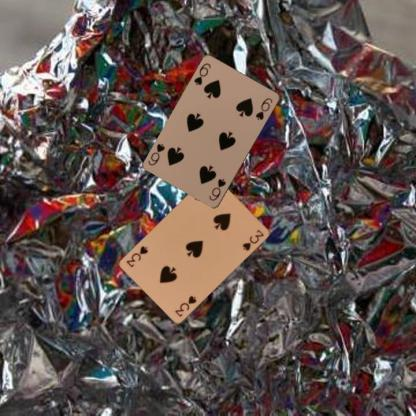3s: (172, 292, 198, 318)
6s: (206, 176, 227, 202), (191, 61, 212, 86)
